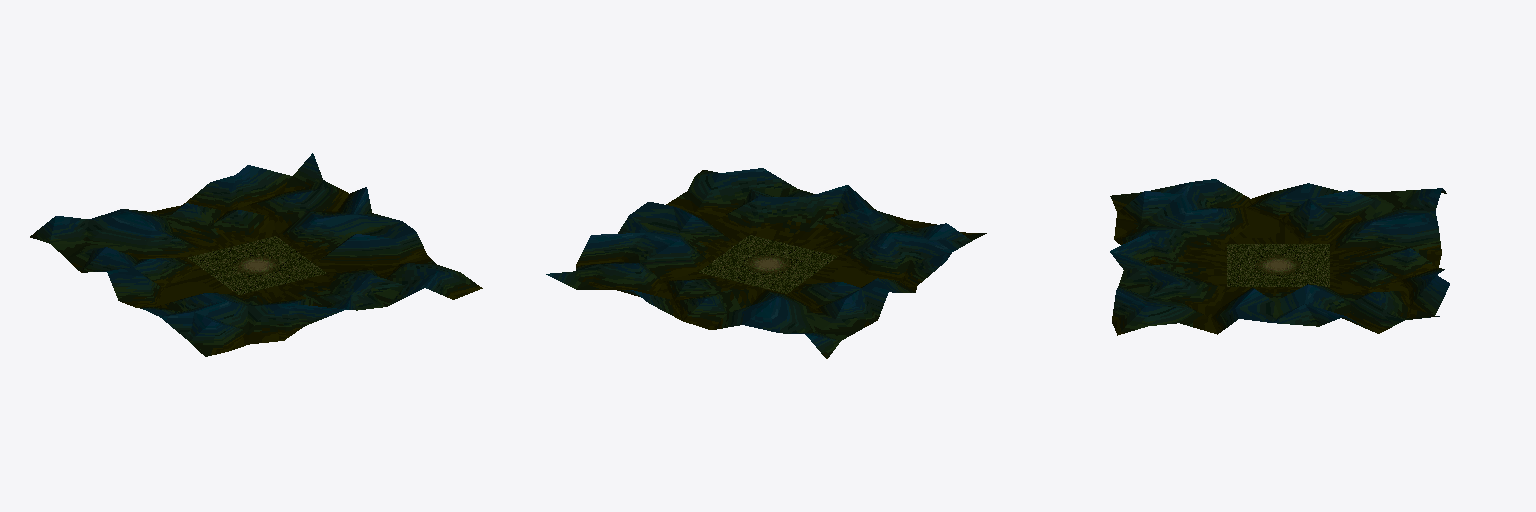
3 renders of one model, left to right at view 1: azimuth 30°, elevation 25°; view 2: azimuth 150°, elevation 25°; view 3: azimuth 270°, elevation 25°, orthographic.
Visible parts, largest first — view 1: Nemu_32F6789_0_028, Nemu_76BACB49_0_030, Nemu_35BF7BB8_0_029; view 2: Nemu_32F6789_0_028, Nemu_76BACB49_0_030, Nemu_35BF7BB8_0_029; view 3: Nemu_32F6789_0_028, Nemu_76BACB49_0_030, Nemu_35BF7BB8_0_029.
Part boxes in pixels (left/top/right/bottom): Nemu_32F6789_0_028: left=30, top=153, right=482, bottom=356; Nemu_76BACB49_0_030: left=188, top=236, right=326, bottom=294; Nemu_35BF7BB8_0_029: left=223, top=251, right=291, bottom=279; Nemu_32F6789_0_028: left=546, top=168, right=986, bottom=358; Nemu_76BACB49_0_030: left=699, top=235, right=838, bottom=293; Nemu_35BF7BB8_0_029: left=734, top=250, right=802, bottom=278; Nemu_32F6789_0_028: left=1110, top=179, right=1449, bottom=335; Nemu_76BACB49_0_030: left=1227, top=244, right=1329, bottom=286; Nemu_35BF7BB8_0_029: left=1253, top=254, right=1303, bottom=275.
Bounding box in the file's own units: 27.76 × 1.95 × 28.16.
3 materials, 3 textured.